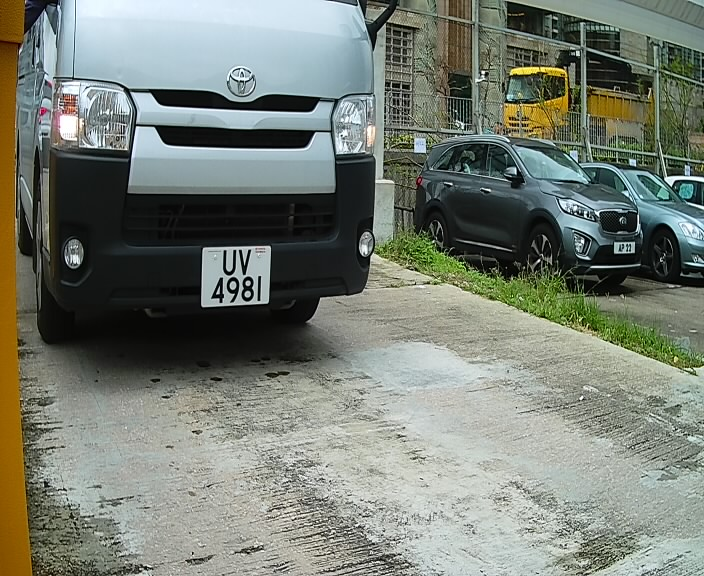Car: (22, 2, 379, 365)
License Plate: (197, 240, 277, 317)
